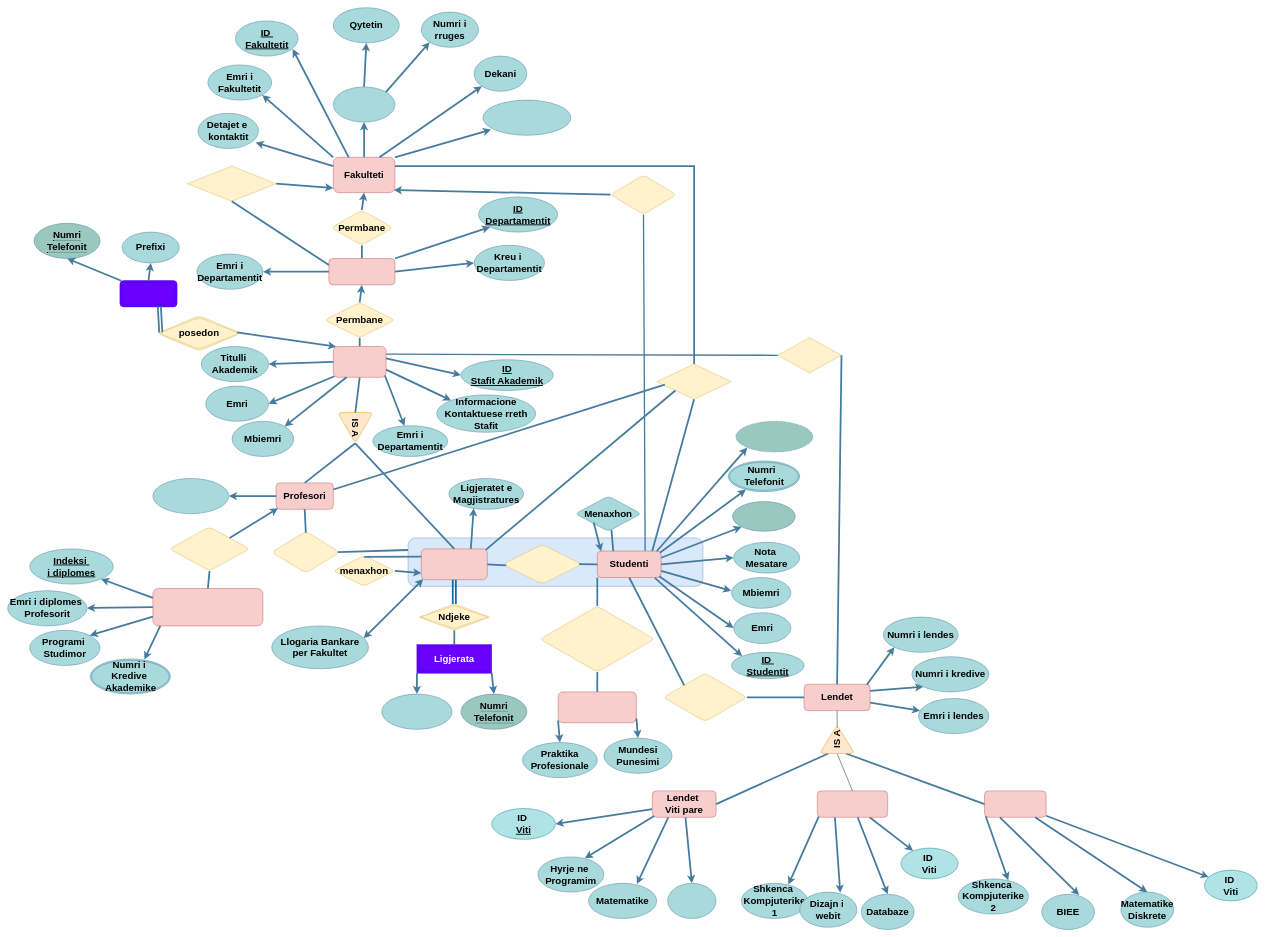
The diagram is 1265 pixels wide and 937 high, and some of its shapes have lost their labels. The centre of each missing label's shape, as x and y in pixels:
Adresa: the point at 364,104
Algoritme: the point at 691,900
Asistenti: the point at 454,564
Data e Lindjes: the point at 763,516
Departementi Akademik: the point at 361,271
Diploma e Programit Studimor: the point at 207,607
Informacione Kontaktuese: the point at 526,117
Internship e Studime: the point at 597,707
Lendet Viti dyte: the point at 852,803
Lendet Viti trete: the point at 1015,803
Ligjeratet e Doktorratures: the point at 190,496
ligjeron: the point at 809,355
Monitorohet: the point at 305,552
Mosha: the point at 774,436
Ndegjon: the point at 705,697
Ndihmon ne projekt: the point at 542,564
ndimojne ne organizim: the point at 231,183
Numri i asistenteve: the point at 416,711
Numri i Telefonit: the point at 148,293
Perfshine: the point at 643,194
Pjesemarres: the point at 694,381
Programi Studimor i Studentit: the point at 597,639
Sistemi i profesorit: the point at 209,548
Stafi Akademik: the point at 359,361
